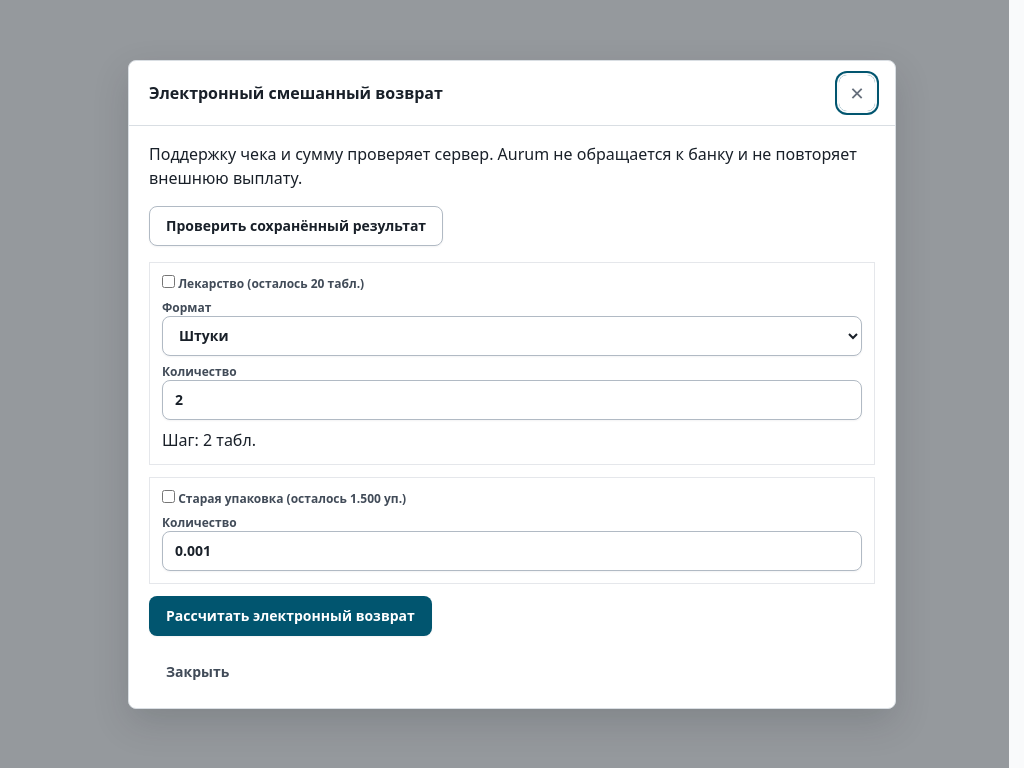
Test: mixed selection and recovery barriers › saves the original tagged selection with exact legacy thousandths
Check: the field named "Количество: Старая упаковка" is shown, box [162, 530, 862, 570]
Click the checkbox labelled "Лекарство (осталось 20 табл.)" at x=168, y=281, box [162, 274, 175, 288]
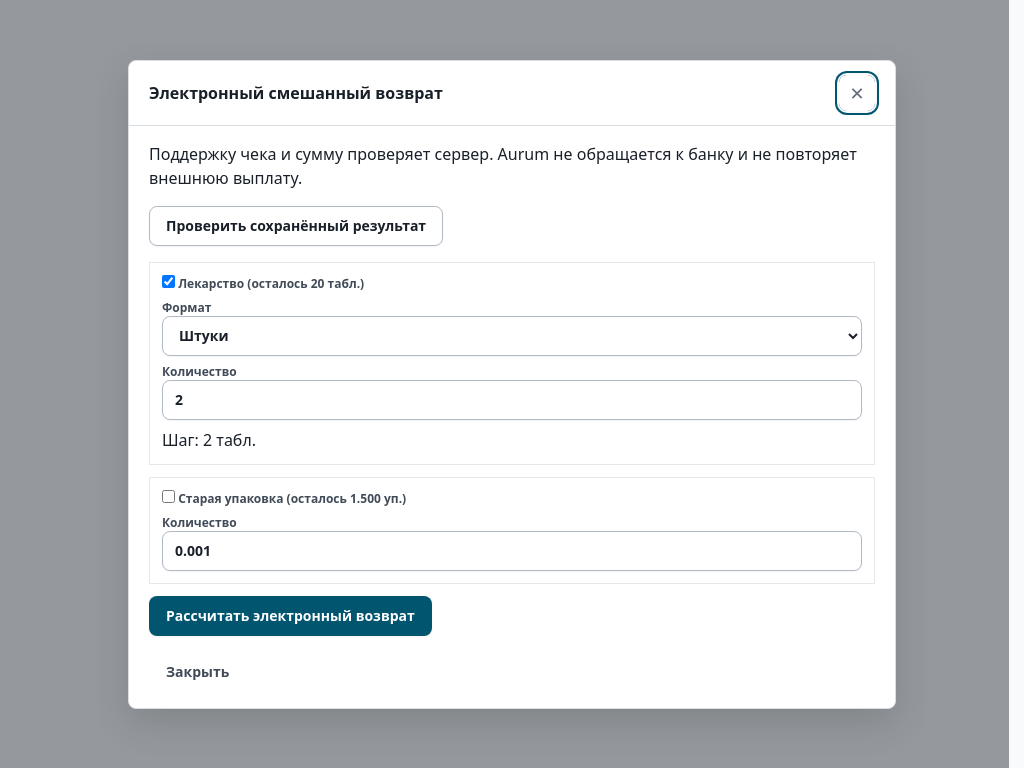
Click the checkbox labelled "Старая упаковка (осталось 1.500 уп.)" at x=168, y=496, box [162, 490, 175, 502]
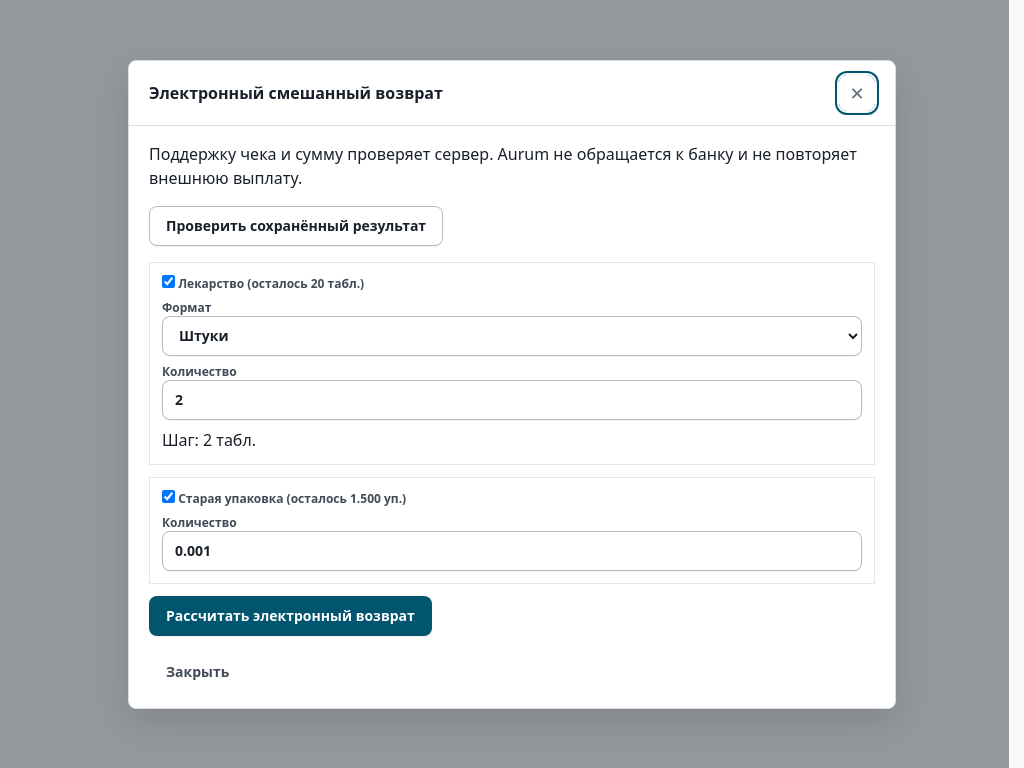
Replace the text in the field named "Количество: Старая упаковка" with "1.25" at x=512, y=550, box [162, 530, 862, 570]
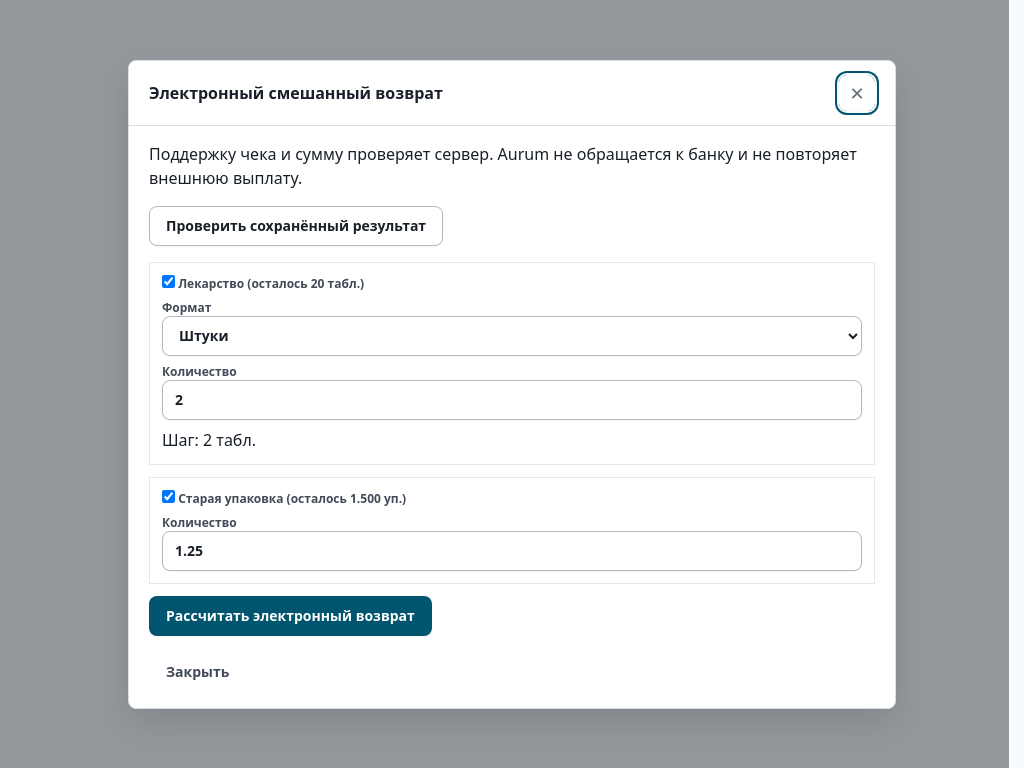
Click the button "Рассчитать электронный возврат" at x=290, y=616, box [149, 596, 432, 636]
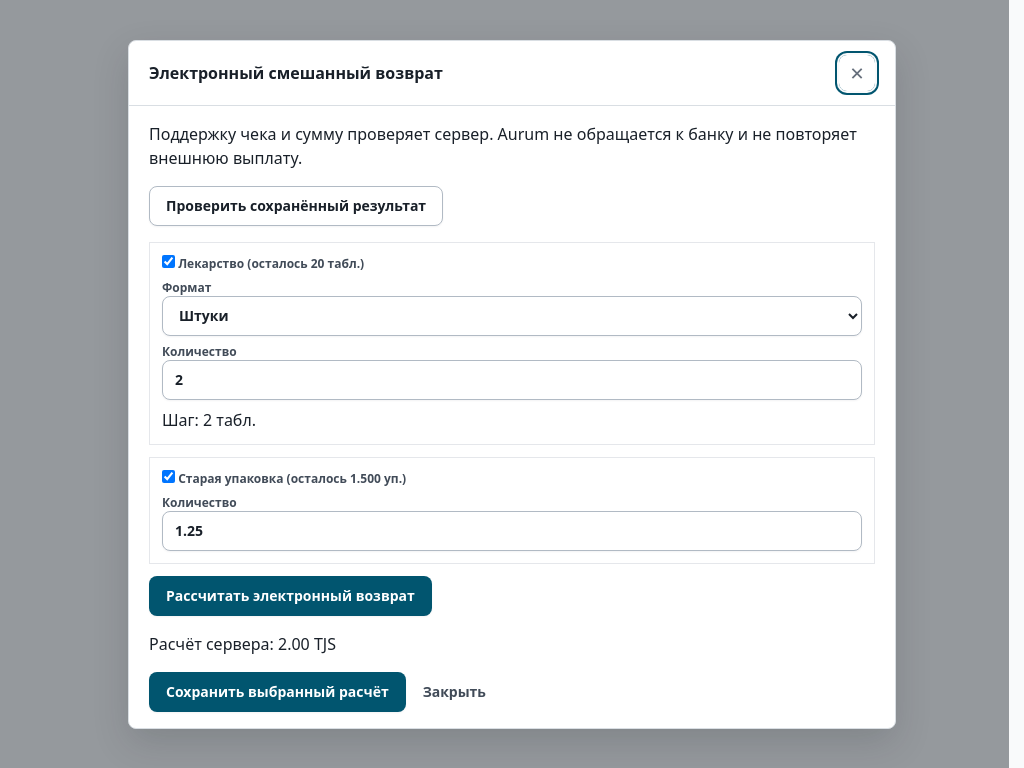
Check: the text "Расчёт сервера: 2.00 TJS" is shown, box [149, 632, 336, 654]
Click the button "Сохранить выбранный расчёт" at x=277, y=692, box [149, 672, 406, 712]
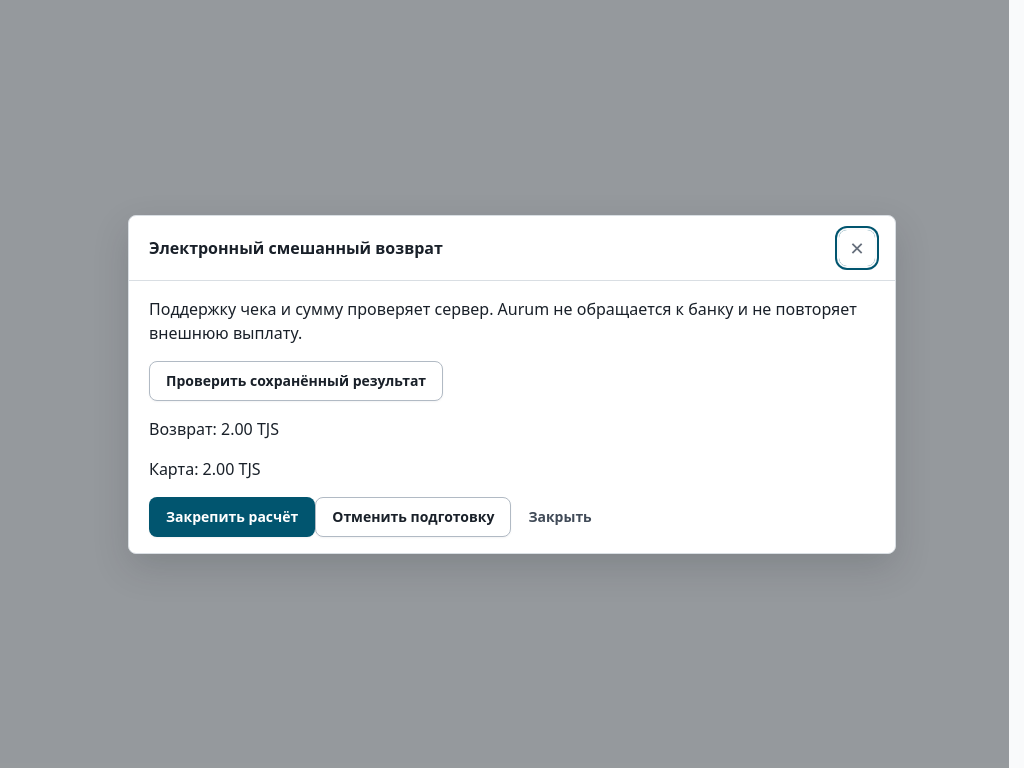
Check: the text "Возврат: 2.00 TJS" is shown, box [149, 418, 279, 440]
